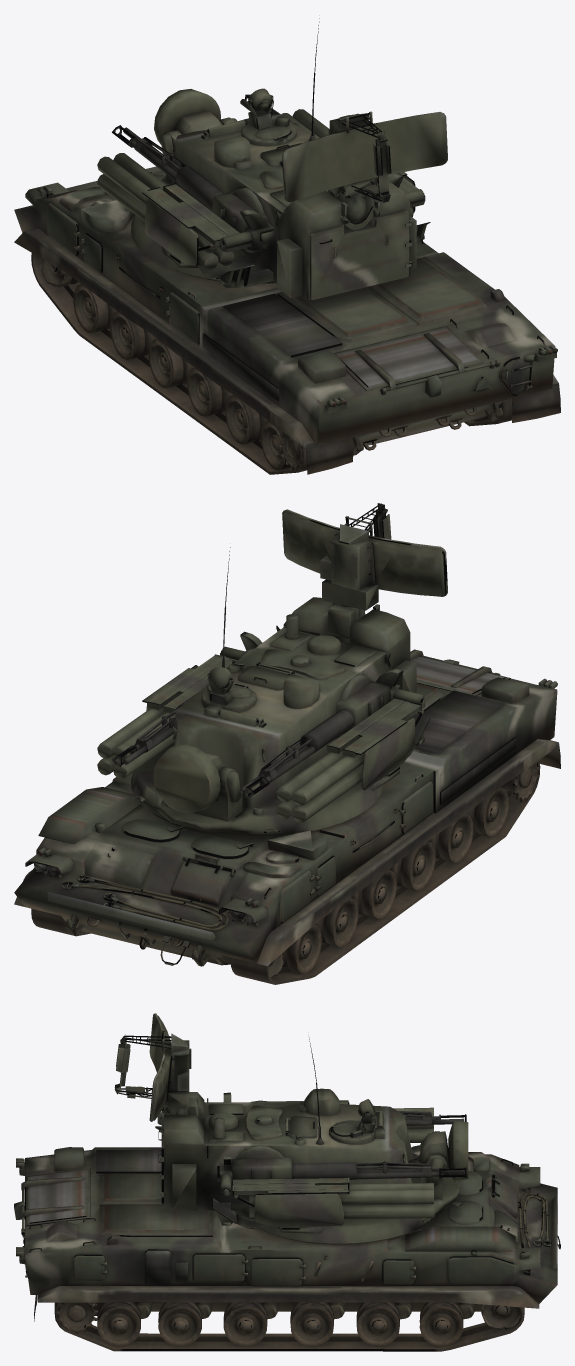
Rendered from tunguska.glb.
3 renders of one model, top to bottom at view 1: azimuth 30°, elevation 25°; view 2: azimuth 150°, elevation 25°; view 3: azimuth 270°, elevation 25°, orthographic. The views are drawn at different scales.
Parts seen in each view (by area): view 1: hull, turret; view 2: hull, turret; view 3: hull, turret.
Part boxes in pixels (bbox=[...]): hull: bbox=[14, 166, 560, 474]; turret: bbox=[97, 18, 447, 300]; hull: bbox=[14, 649, 560, 984]; turret: bbox=[97, 503, 447, 836]; hull: bbox=[14, 1145, 560, 1351]; turret: bbox=[114, 1013, 468, 1243].
Size of the model in its own units: 3.66 by 4.67 by 7.93.
1 material, 1 textured.
